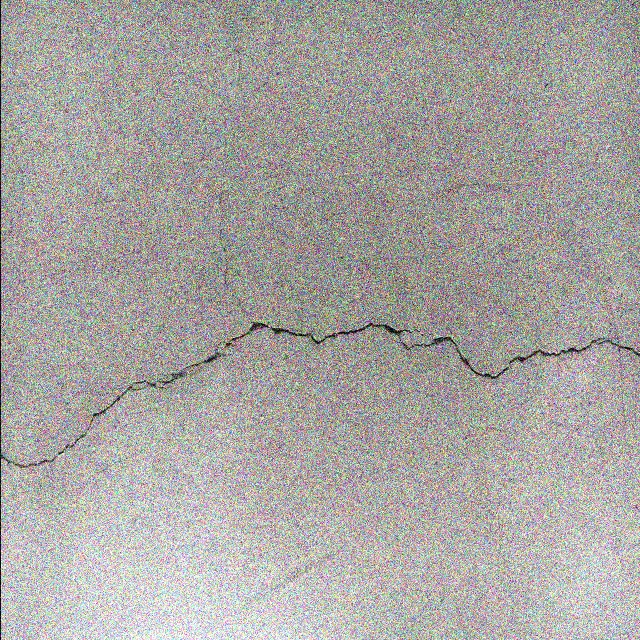SurfaceCrack: (0, 284, 638, 498)
